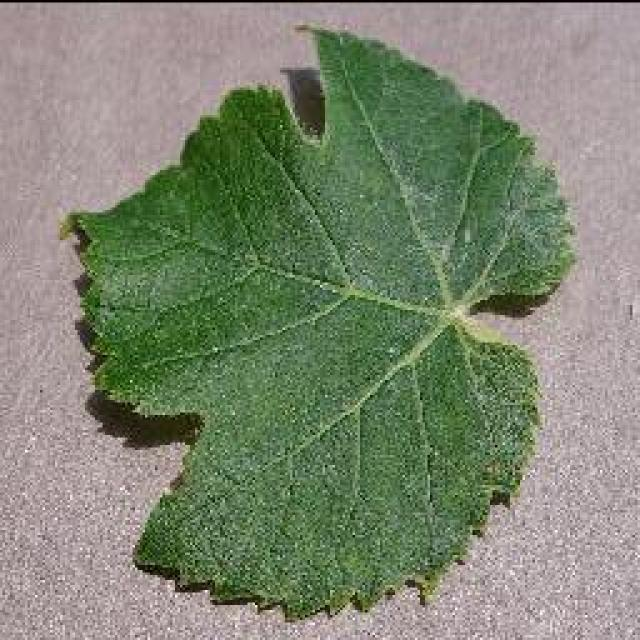Grape___healthy: (70, 30, 570, 612)
